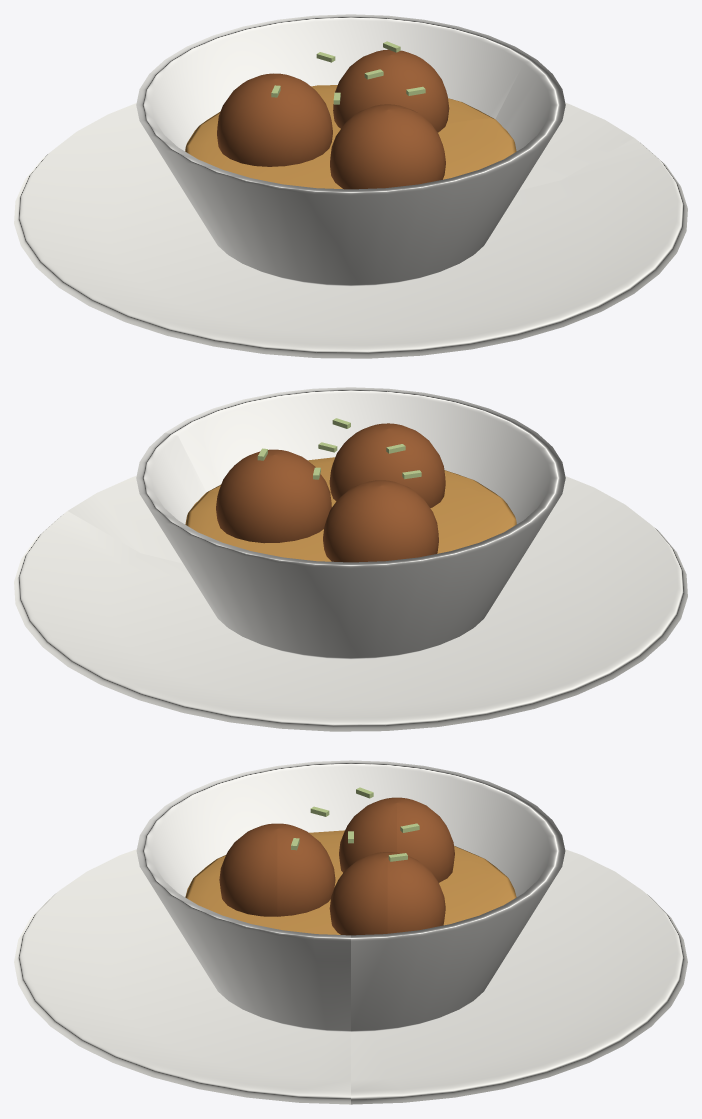
Rendered from gulab-jamun.glb.
The picture shows the model from 3 angles, top to bottom: view 1: azimuth 30°, elevation 25°; view 2: azimuth 150°, elevation 25°; view 3: azimuth 270°, elevation 25°; orthographic projection.
Parts seen in each view (by area): view 1: gulab-jamun; view 2: gulab-jamun; view 3: gulab-jamun.
Boxes of the visible parts, <box> form: gulab-jamun: <box>14,14,687,358</box>; gulab-jamun: <box>14,387,687,731</box>; gulab-jamun: <box>14,760,687,1104</box>.
Bounding box in the file's own units: 0.22 × 0.0608 × 0.22.
